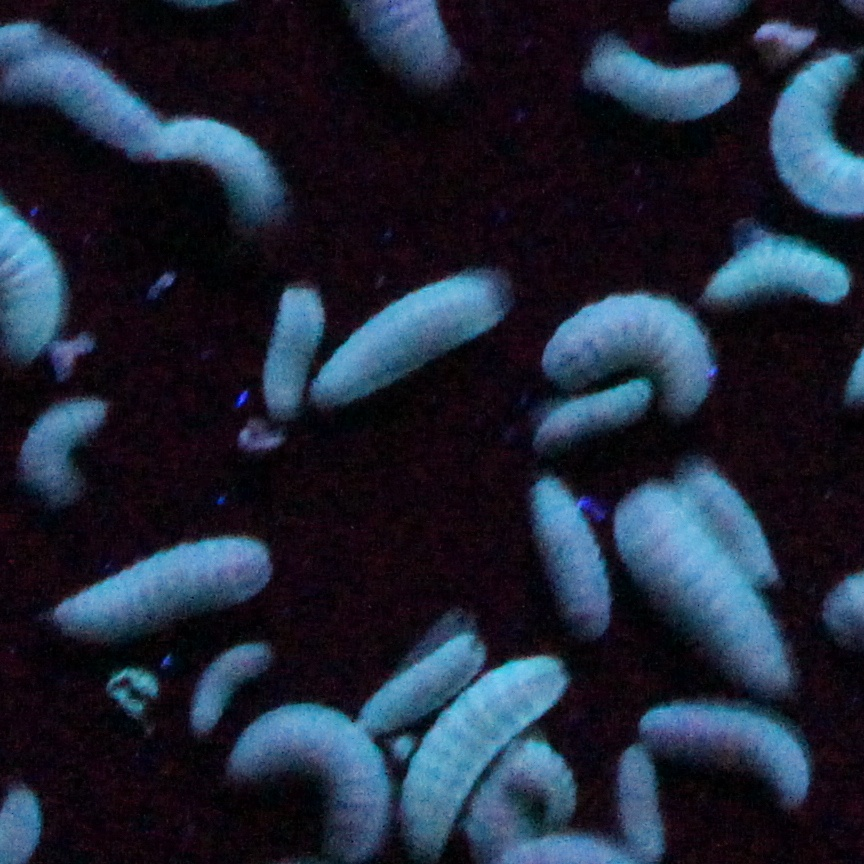larve: (614, 482, 787, 691), (405, 653, 565, 856), (311, 271, 509, 411), (229, 706, 393, 858), (39, 536, 272, 636), (642, 702, 807, 815), (578, 27, 740, 126), (156, 115, 289, 227), (358, 629, 487, 735), (700, 215, 849, 306), (531, 471, 605, 631), (689, 469, 773, 584), (19, 394, 106, 505), (536, 380, 653, 451), (262, 284, 320, 416), (187, 640, 271, 726), (513, 738, 583, 835), (754, 19, 819, 52)
